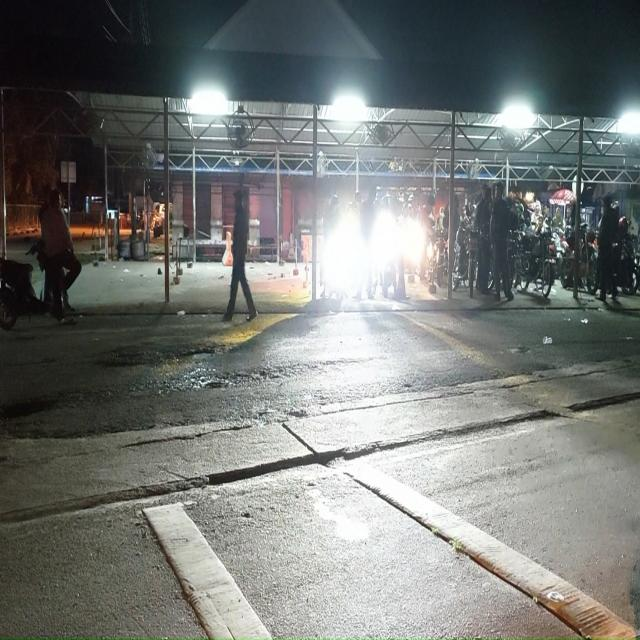Golongan II: (0, 243, 49, 330), (514, 226, 555, 297), (558, 222, 597, 294), (452, 218, 473, 297), (614, 235, 640, 295), (434, 231, 448, 288)
